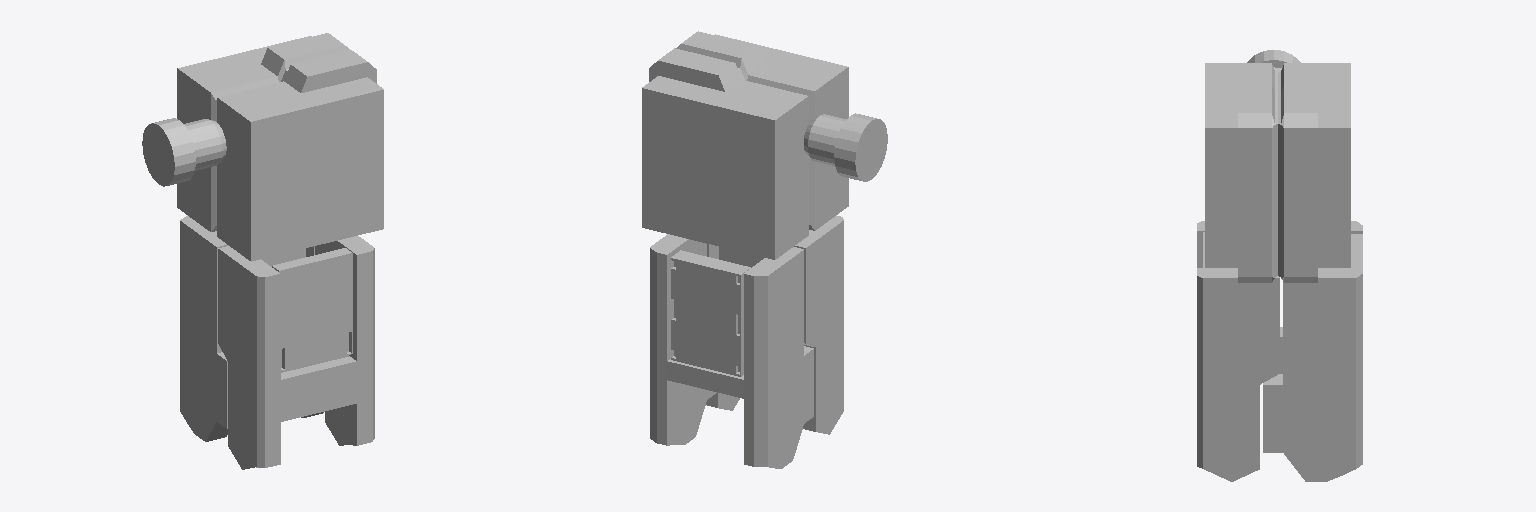
Rendered from ulefthand.obj.
3 renders of one model, left to right at view 1: azimuth 30°, elevation 25°; view 2: azimuth 150°, elevation 25°; view 3: azimuth 270°, elevation 25°, orthographic.
Size of the model in its own units: 2.51 by 4.47 by 1.8.